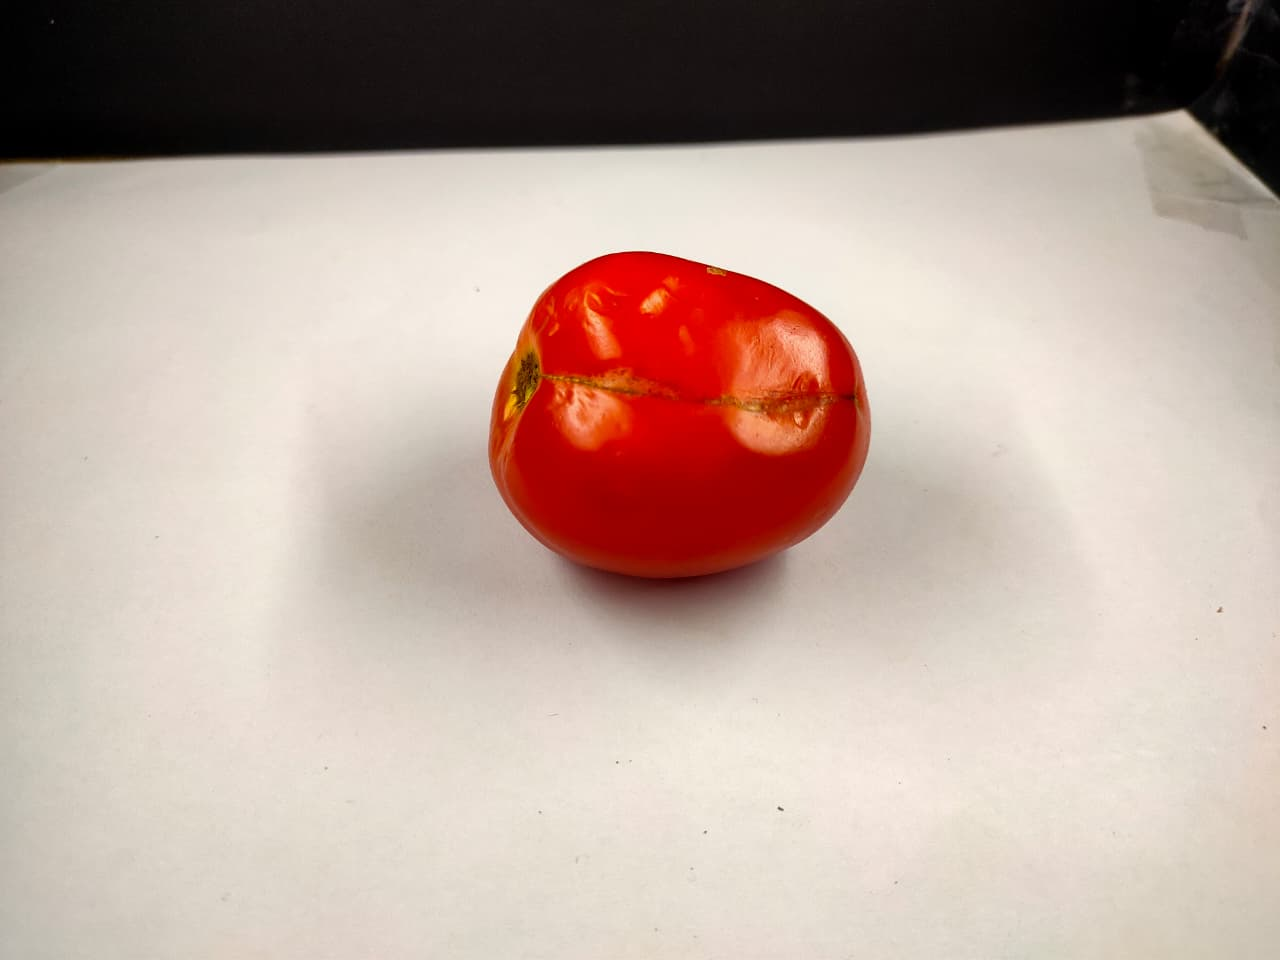damaged: (509, 224, 882, 598)
